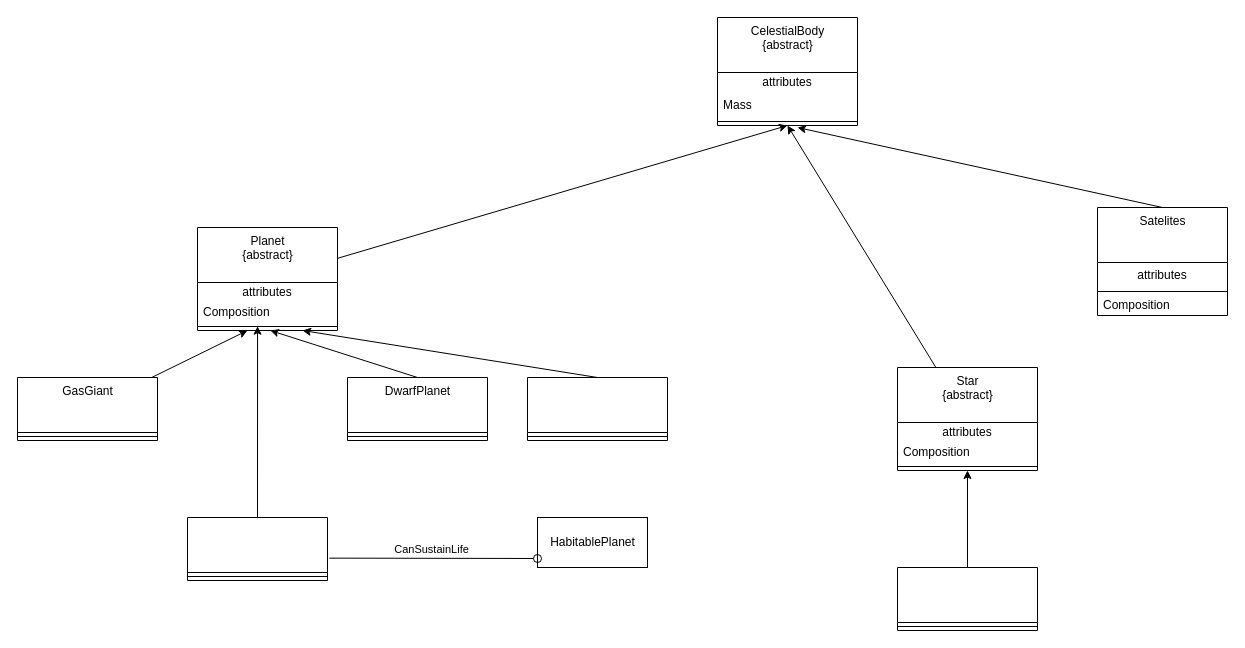
This 1245x648 diagram has some shape labels left out. Here are the shapes that lost their labels. From the top down, the centre of each, then its label:
At pixel 597 408: "IceGiant".
At pixel 257 548: "RockPlanet".
At pixel 967 598: "Yellow Dwafr".
